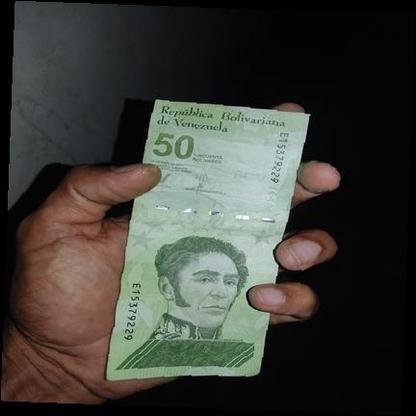vef_front: (106, 98, 310, 382)
